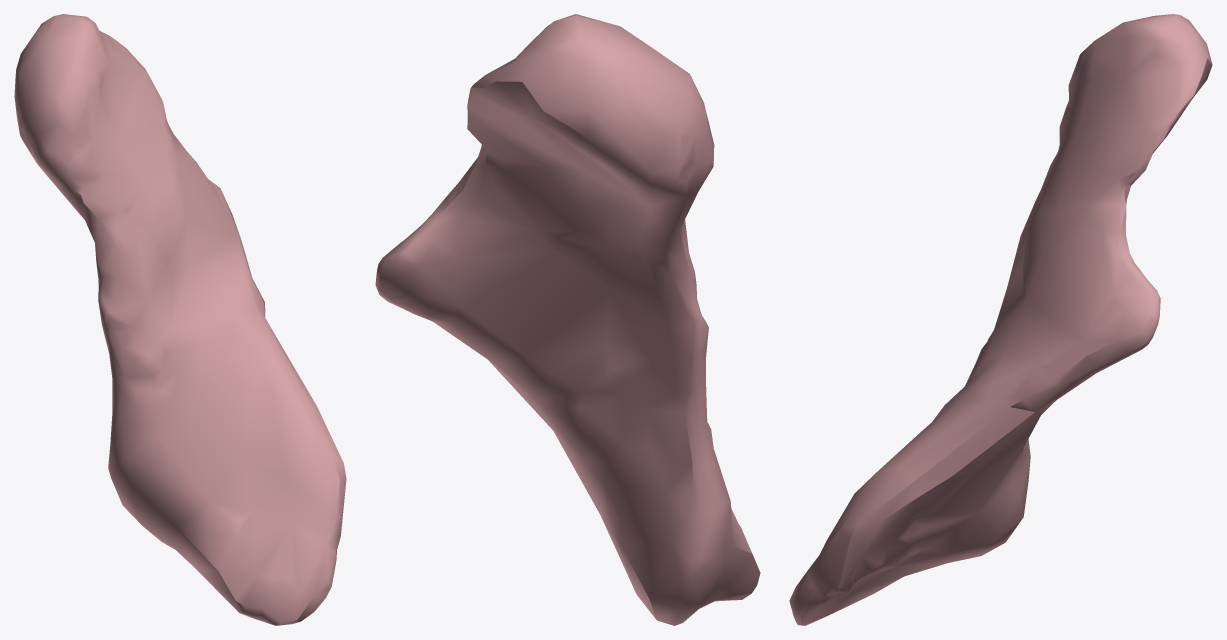
File: fma71195_fj3150.glb
The picture shows the model from 3 angles, left to right: view 1: azimuth 30°, elevation 25°; view 2: azimuth 150°, elevation 25°; view 3: azimuth 270°, elevation 25°; orthographic projection. The views are drawn at different scales.
Parts seen in each view (by area): view 1: FMA71195_FJ3150; view 2: FMA71195_FJ3150; view 3: FMA71195_FJ3150.
Boxes of the visible parts, left/top/right/bottom form: FMA71195_FJ3150: left=14, top=14, right=346, bottom=625; FMA71195_FJ3150: left=375, top=14, right=760, bottom=625; FMA71195_FJ3150: left=789, top=14, right=1212, bottom=625.
Bounding box in the file's own units: 0.0253 × 0.0591 × 0.0395.
